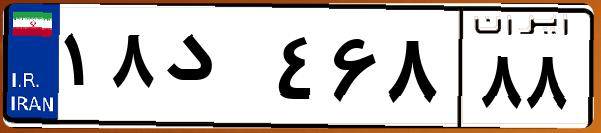1: (57, 26, 110, 100)
4: (270, 28, 330, 110)
6: (330, 28, 385, 110)
8: (385, 28, 445, 110), (475, 38, 525, 113), (525, 38, 570, 115), (110, 28, 158, 98)
د: (158, 20, 270, 120)
